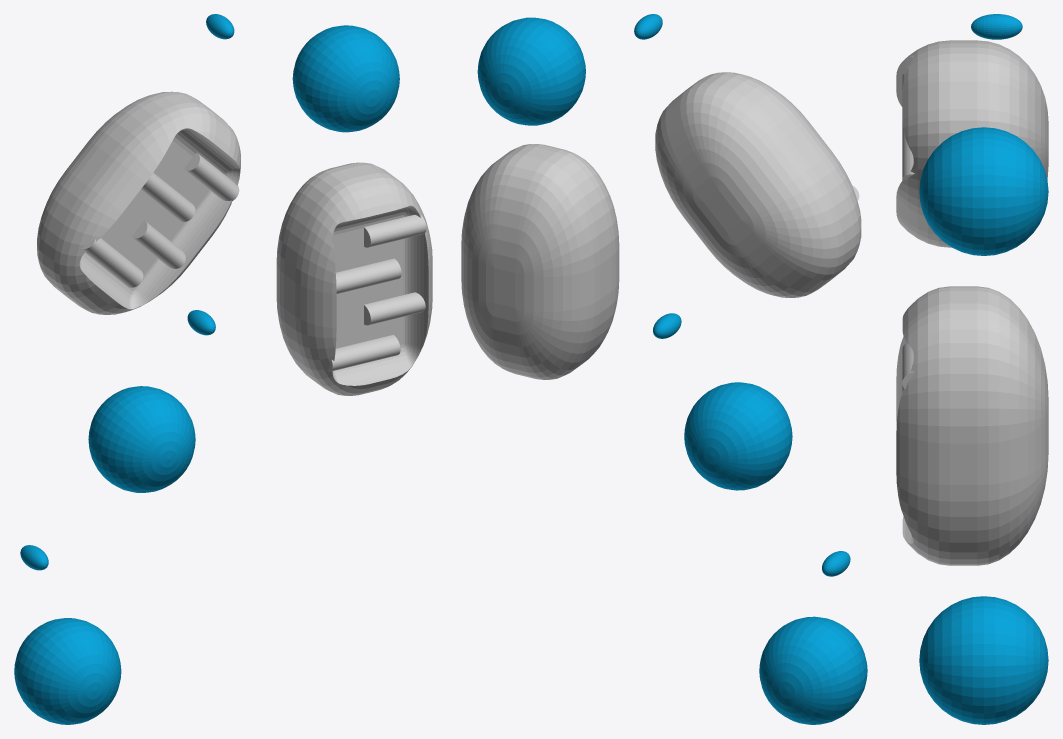
The model's file is tinker.obj.
The picture shows the model from 3 angles, left to right: view 1: azimuth 30°, elevation 25°; view 2: azimuth 150°, elevation 25°; view 3: azimuth 270°, elevation 25°; orthographic projection. The views are drawn at different scales.
Parts seen in each view (by area): view 1: group_0_15277357, group_0_40919; view 2: group_0_15277357, group_0_40919; view 3: group_0_15277357, group_0_40919.
Boxes of the visible parts, left/top/right/bottom form: group_0_15277357: left=37, top=91, right=432, bottom=395; group_0_40919: left=14, top=14, right=399, bottom=724; group_0_15277357: left=461, top=72, right=861, bottom=379; group_0_40919: left=477, top=14, right=867, bottom=724; group_0_15277357: left=896, top=40, right=1048, bottom=565; group_0_40919: left=919, top=14, right=1048, bottom=724.
Bounding box in the file's own units: 21 × 34 × 5.89.
